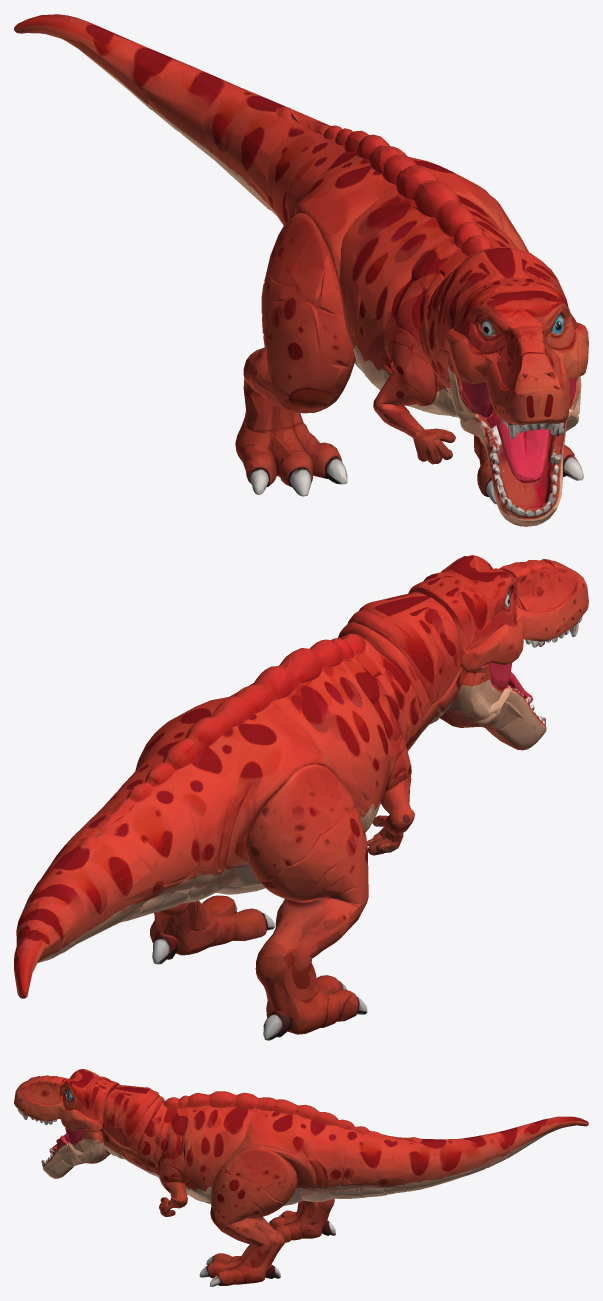
Rendered from trex.glb.
3 views of the same model, one above another, from view 1: azimuth 30°, elevation 25°; view 2: azimuth 150°, elevation 25°; view 3: azimuth 270°, elevation 25° (orthographic). The views are drawn at different scales.
Size of the model in its own units: 0.5143 by 0.6 by 1.9.
1 material, 1 textured.
